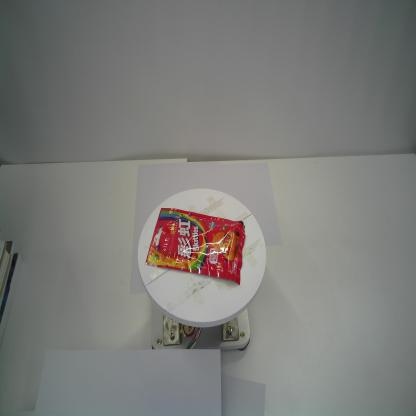Candy: (144, 205, 246, 287)
